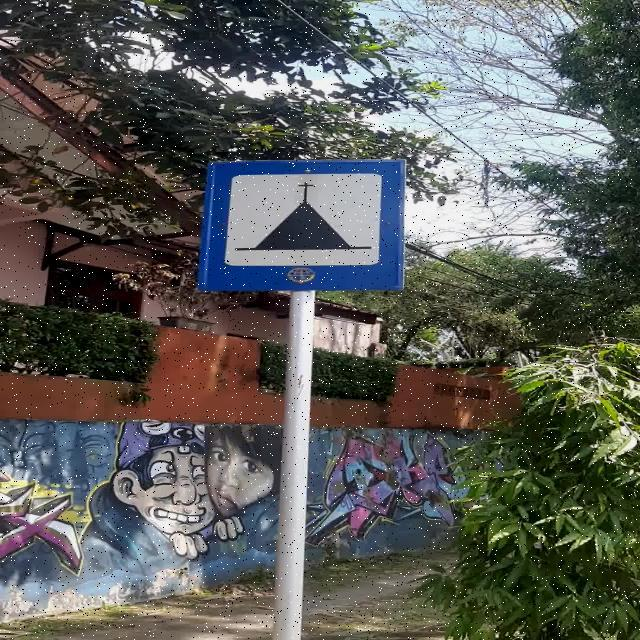Gereja: (198, 158, 406, 290)
